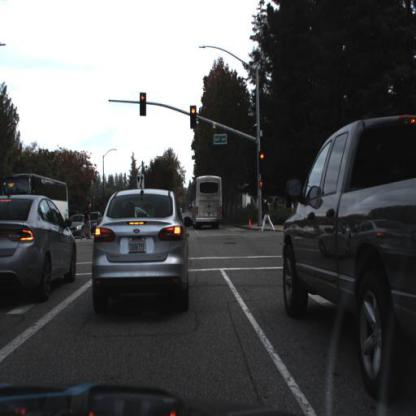car: (280, 109, 416, 407), (283, 113, 416, 383), (92, 188, 191, 312), (1, 194, 79, 301), (68, 213, 88, 242), (69, 215, 88, 236)
pedestrian: (264, 197, 274, 235)
trafficLight-Red: (191, 105, 199, 131), (191, 105, 199, 130), (259, 151, 267, 175), (259, 151, 266, 174)
trafficLight-RedLeft: (140, 92, 148, 117)
truck: (6, 172, 69, 220), (7, 174, 66, 216), (190, 176, 225, 226)
